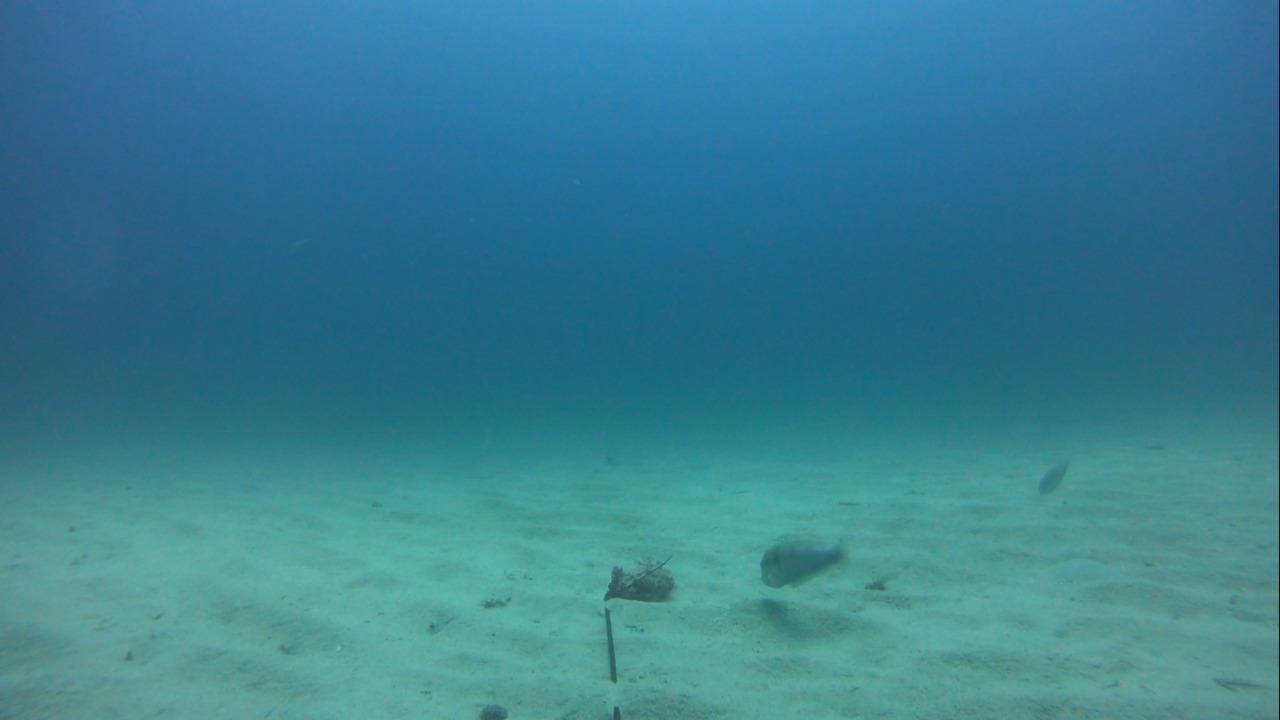raor: (749, 534, 851, 592), (1030, 451, 1078, 502)
